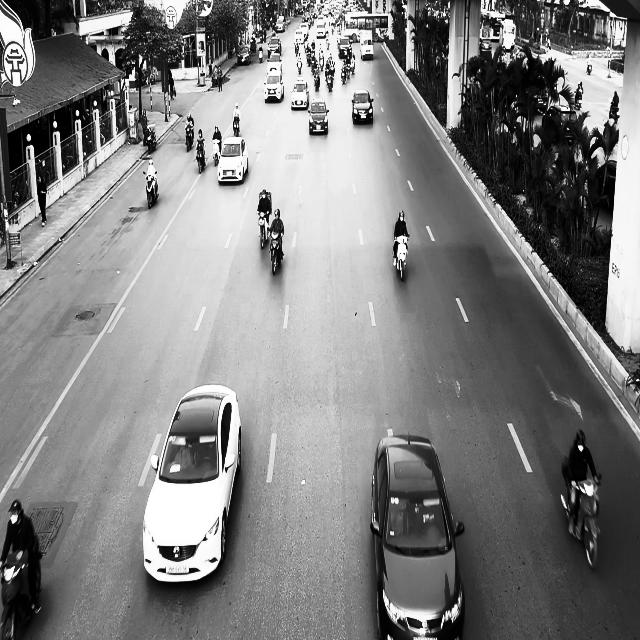car: (370, 428, 465, 640), (142, 383, 242, 584), (217, 136, 248, 184), (351, 89, 374, 124), (308, 97, 329, 135), (264, 68, 284, 102), (291, 80, 309, 109), (267, 52, 283, 74), (359, 37, 374, 60), (338, 36, 352, 59), (237, 43, 251, 65)
motorbike: (560, 473, 602, 570), (0, 547, 42, 639), (393, 235, 409, 281), (269, 231, 284, 275), (142, 170, 158, 208), (257, 210, 269, 249), (608, 96, 619, 122), (146, 125, 156, 152), (196, 143, 205, 173), (212, 138, 221, 166), (186, 124, 193, 152), (232, 118, 240, 136)
